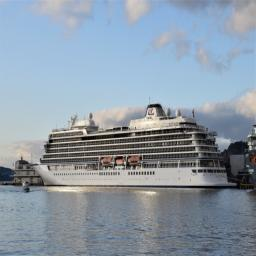cruises: (30, 103, 239, 193)
